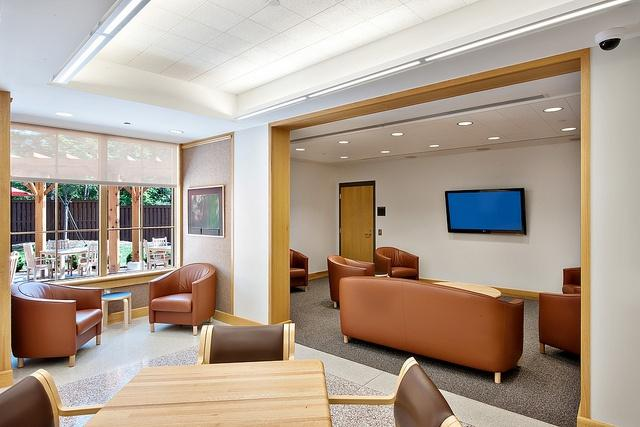AIO PC-Monitor-TV: (443, 187, 525, 234)
